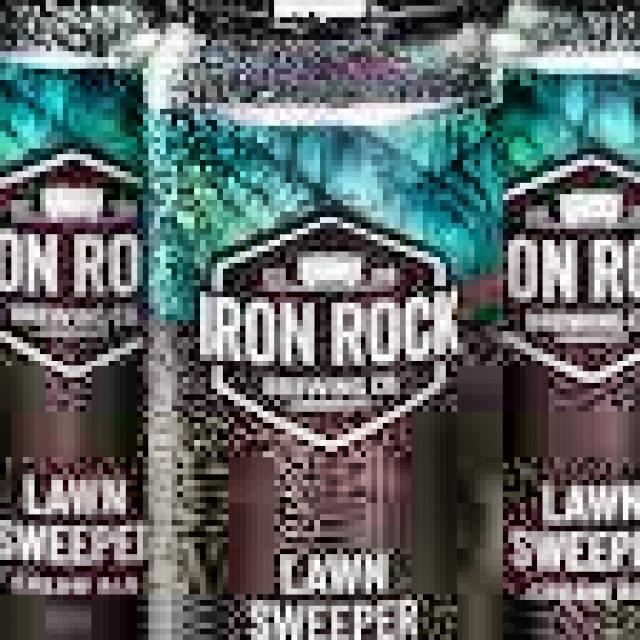metal: (154, 0, 503, 640), (0, 0, 240, 640), (434, 0, 640, 640)
